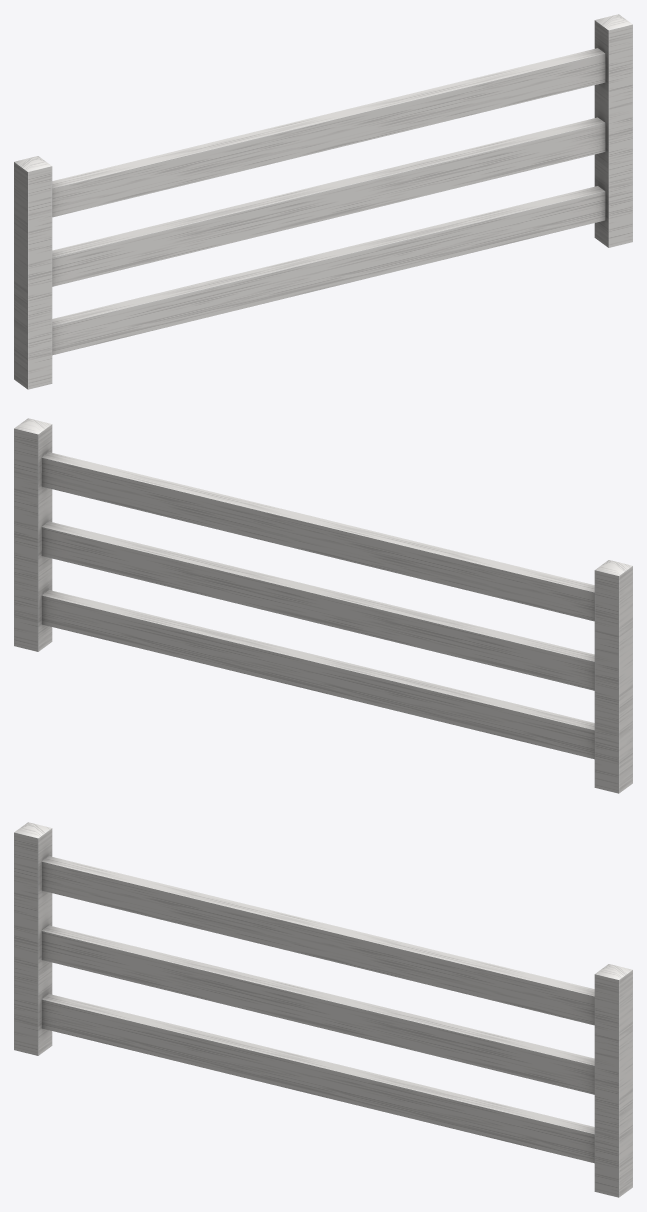
File: Fence.glb
The picture shows the model from 3 angles, top to bottom: view 1: azimuth 30°, elevation 25°; view 2: azimuth 150°, elevation 25°; view 3: azimuth 330°, elevation 25°; orthographic projection.
Parts seen in each view (by area): view 1: Fence_mesh; view 2: Fence_mesh; view 3: Fence_mesh.
Part boxes in pixels (box(x1,y1,x2,y2)): Fence_mesh: box(14, 14, 632, 389); Fence_mesh: box(14, 418, 632, 793); Fence_mesh: box(14, 822, 632, 1197).
Size of the model in its own units: 11.63 by 4.13 by 0.4672.
1 material, 1 textured.
